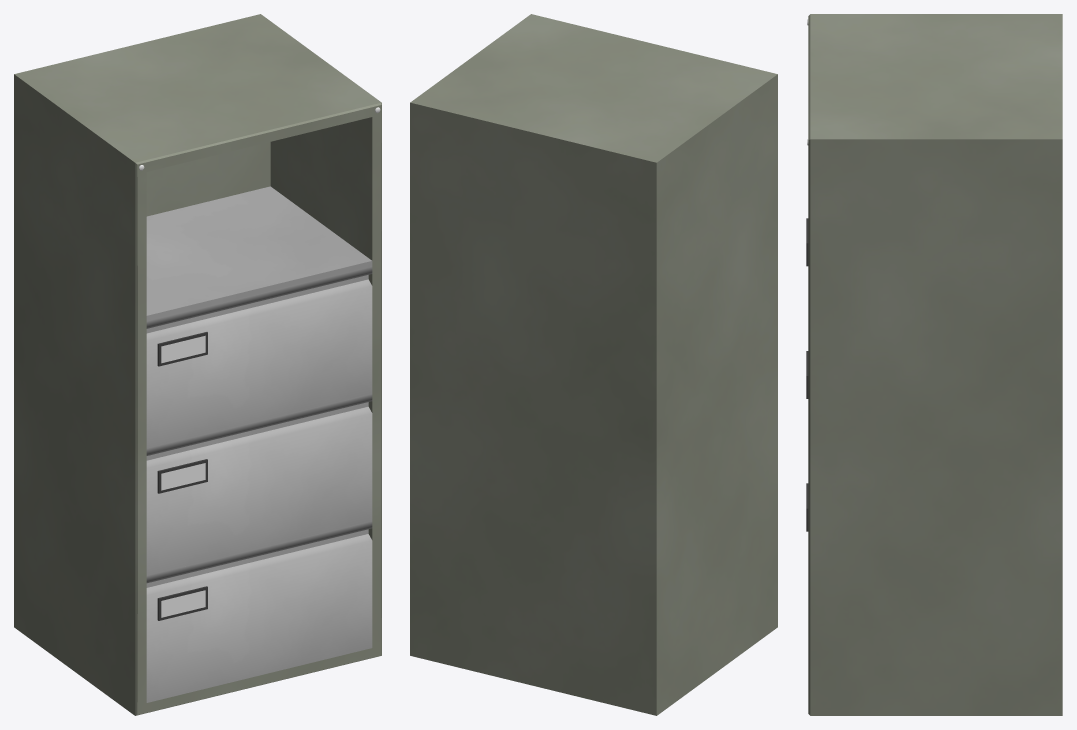
File: 3D004_Office_FileCabinet.FBX
The picture shows the model from 3 angles, left to right: view 1: azimuth 30°, elevation 25°; view 2: azimuth 150°, elevation 25°; view 3: azimuth 270°, elevation 25°; orthographic projection. The views are drawn at different scales.
Parts seen in each view (by area): view 1: 3D004_Office_FileCabinet, 3D004_Office_FileDrawer2 (×2), 3D004_Office_FileDrawer1; view 2: 3D004_Office_FileCabinet; view 3: 3D004_Office_FileCabinet.
Boxes of the visible parts, x1=… form: 3D004_Office_FileCabinet: x1=14, y1=14, x2=381, y2=715; 3D004_Office_FileDrawer2 (×2): x1=146, y1=393, x2=372, y2=702; 3D004_Office_FileDrawer1: x1=146, y1=266, x2=372, y2=448; 3D004_Office_FileCabinet: x1=410, y1=14, x2=777, y2=715; 3D004_Office_FileCabinet: x1=807, y1=14, x2=1062, y2=715.
Bounding box in the file's own units: 70 × 150 × 60.5.
